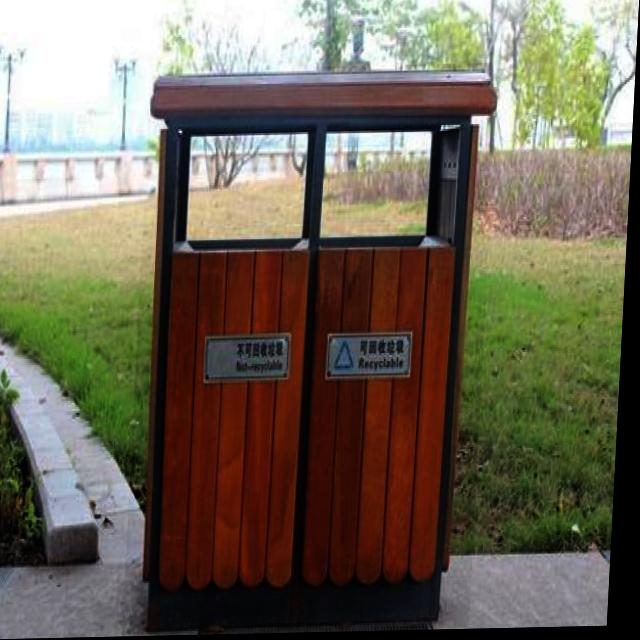garbage_bin: (129, 65, 499, 635)
